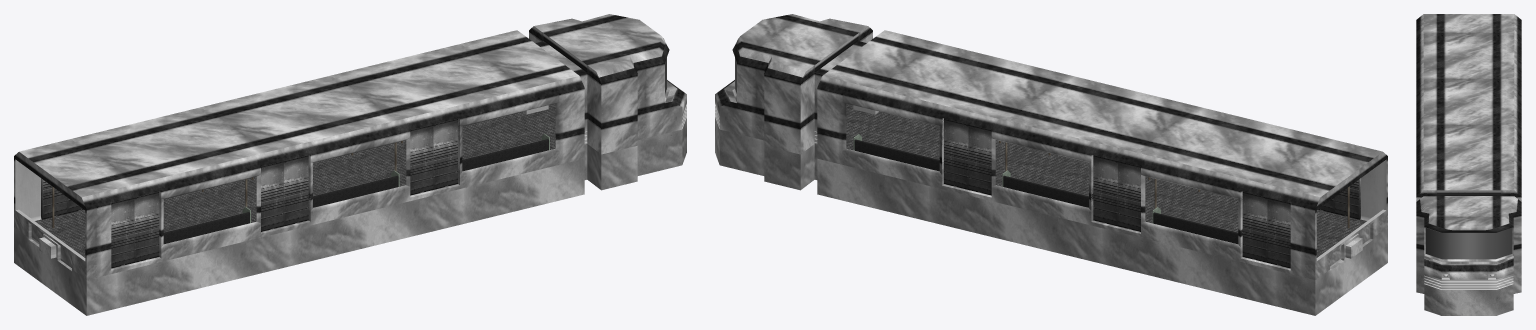
Rendered from metro.FBX.
3 renders of one model, left to right at view 1: azimuth 30°, elevation 25°; view 2: azimuth 150°, elevation 25°; view 3: azimuth 270°, elevation 25°, orthographic. The views are drawn at different scales.
Parts seen in each view (by area): view 1: metro, right_doors, left_doors, seats; view 2: metro, right_doors, left_doors, seats; view 3: metro, windows.
Part boxes in pixels (<box>): metro: <box>14,14,686,315</box>; right_doors: <box>41,124,433,268</box>; left_doors: <box>67,118,457,262</box>; seats: <box>163,133,549,244</box>; metro: <box>715,14,1387,315</box>; right_doors: <box>968,124,1360,268</box>; left_doors: <box>944,118,1334,262</box>; seats: <box>853,134,1238,244</box>; metro: <box>1416,14,1521,315</box>; windows: <box>1425,228,1512,259</box>.
Size of the model in its own units: 144 by 29 by 25.36.
